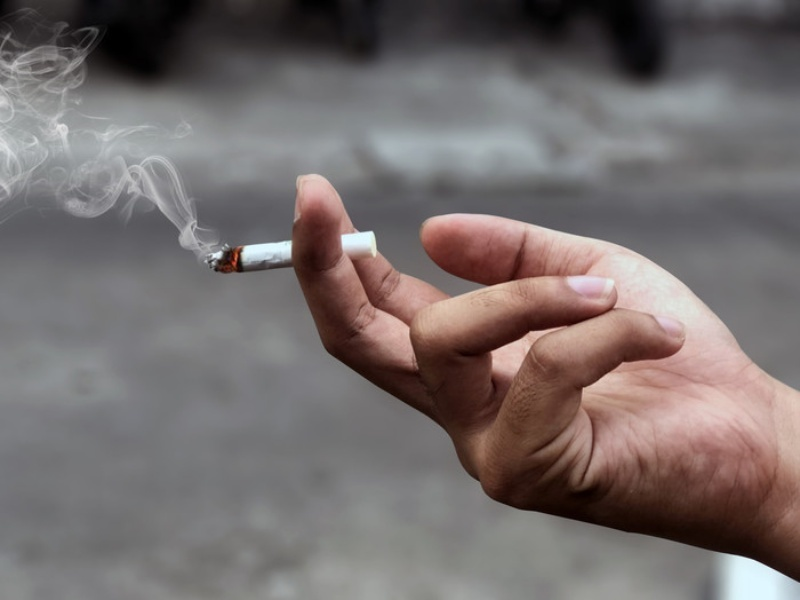smoke: (1, 28, 221, 260)
